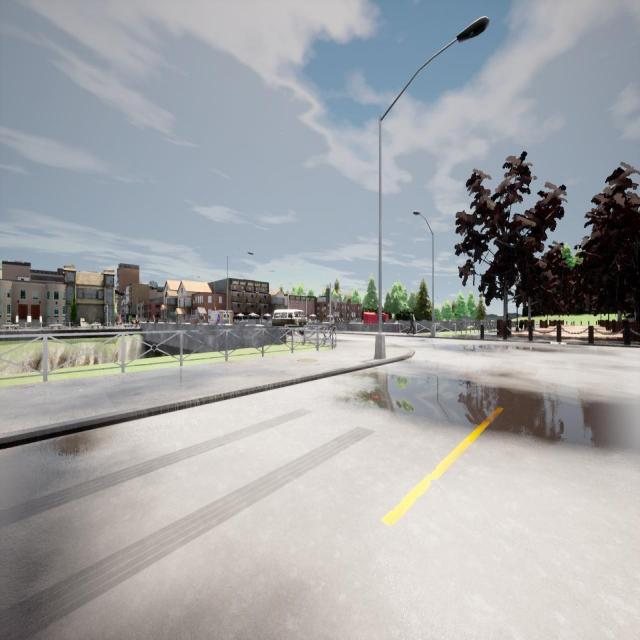Pedestrian: (406, 309, 416, 334)
Vehicle: (272, 310, 308, 328), (208, 310, 232, 324)
traffic_light: (326, 288, 330, 304), (104, 306, 107, 313)
